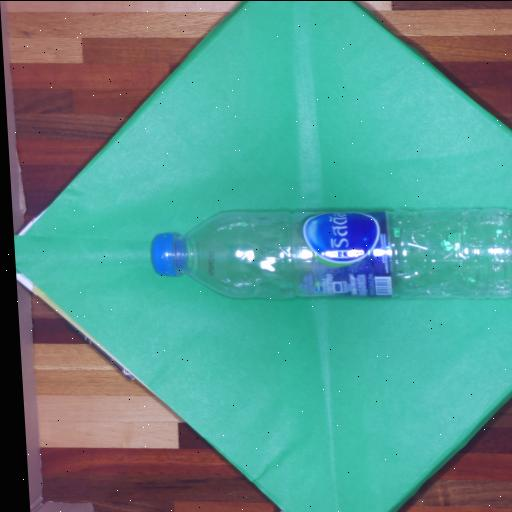bottle: (145, 206, 512, 296)
